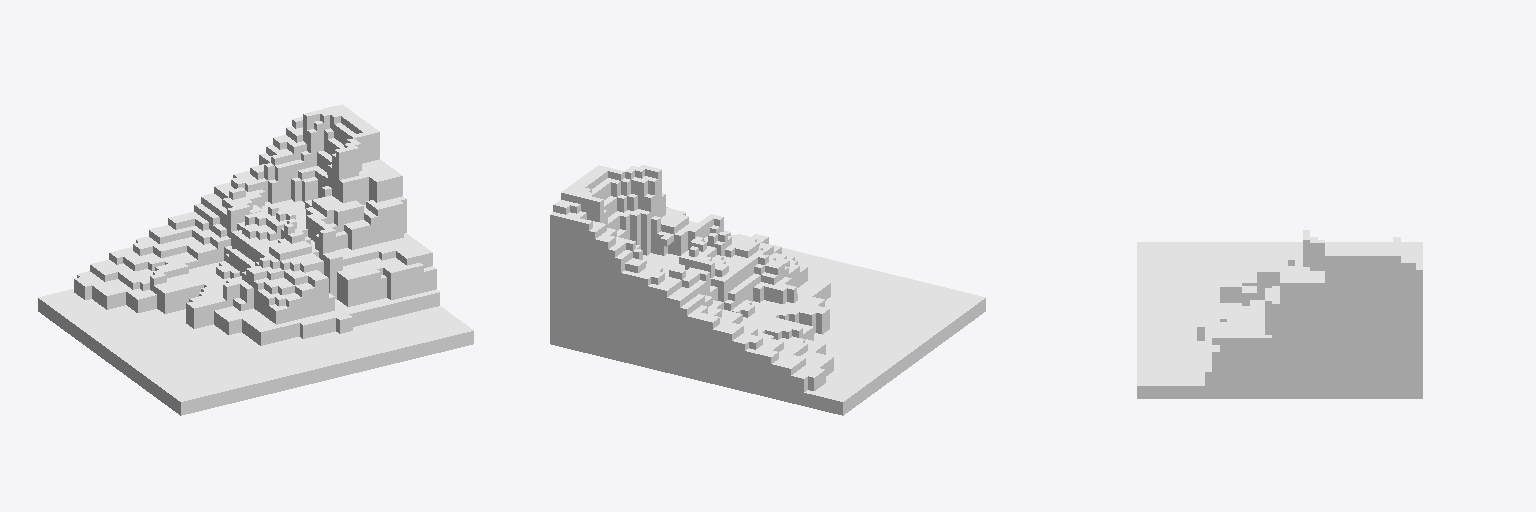
The model's file is volcan_with_lava.obj.
3 views of the same model, side by side, from view 1: azimuth 30°, elevation 25°; view 2: azimuth 150°, elevation 25°; view 3: azimuth 270°, elevation 25° (orthographic).
Parts seen in each view (by area): view 1: volcan_with_lava; view 2: volcan_with_lava; view 3: volcan_with_lava.
Boxes of the visible parts, <box> form: volcan_with_lava: <box>38,104,473,415</box>; volcan_with_lava: <box>550,165,985,415</box>; volcan_with_lava: <box>1137,230,1422,398</box>.
Size of the model in its own units: 90 by 42 by 76.